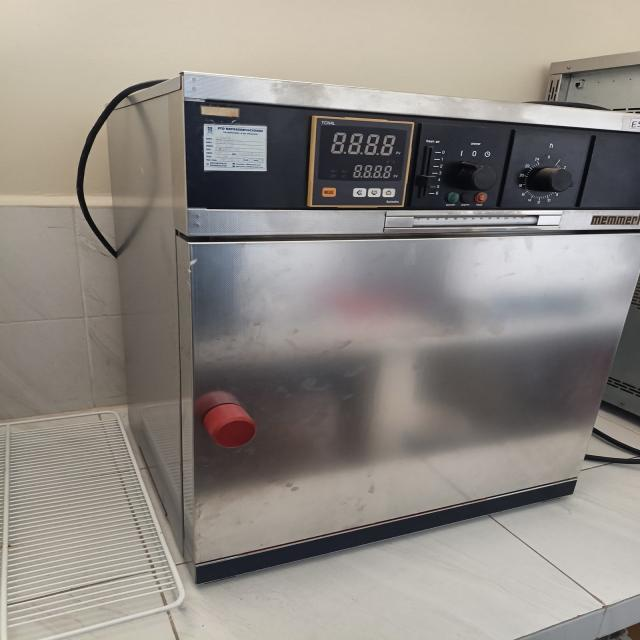Stufa de Laboratorio de Conveccion: (109, 72, 639, 582)
